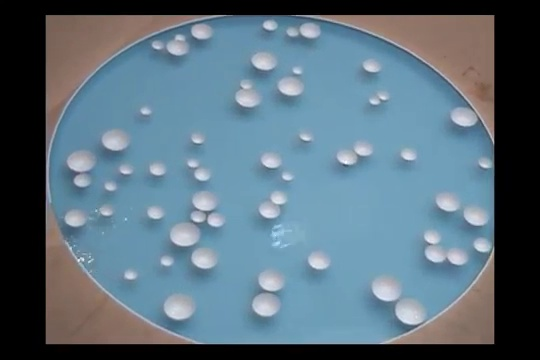bowl: (162, 292, 198, 321), (369, 275, 405, 302), (395, 297, 428, 326), (249, 291, 284, 318), (168, 222, 204, 248), (64, 149, 101, 172), (101, 128, 133, 152), (256, 268, 288, 292), (449, 105, 479, 130), (463, 202, 491, 228), (191, 247, 220, 271), (250, 51, 280, 74), (234, 88, 264, 110), (277, 75, 307, 97), (436, 190, 462, 213), (192, 191, 221, 211), (305, 249, 331, 271), (447, 245, 471, 268), (62, 208, 89, 227), (165, 38, 191, 57), (423, 245, 449, 264), (301, 19, 323, 41), (191, 22, 215, 42), (259, 150, 284, 169), (336, 149, 361, 168), (257, 200, 281, 219), (206, 209, 227, 228), (360, 58, 383, 75), (398, 146, 419, 164), (472, 236, 493, 254), (269, 187, 290, 204), (354, 141, 375, 158), (146, 204, 167, 220), (73, 172, 93, 188), (192, 166, 212, 182), (423, 228, 443, 244), (189, 209, 209, 224), (297, 129, 317, 144), (150, 162, 168, 178), (280, 167, 296, 184), (139, 103, 155, 119), (261, 18, 279, 32), (99, 202, 115, 217), (118, 163, 136, 176), (191, 132, 207, 146), (289, 63, 305, 77), (285, 25, 301, 39), (478, 156, 492, 171), (367, 98, 386, 109), (123, 267, 139, 280), (158, 254, 175, 266), (104, 179, 119, 192), (239, 79, 255, 91), (187, 157, 201, 169), (378, 91, 392, 102), (152, 40, 164, 50), (175, 33, 188, 42)
